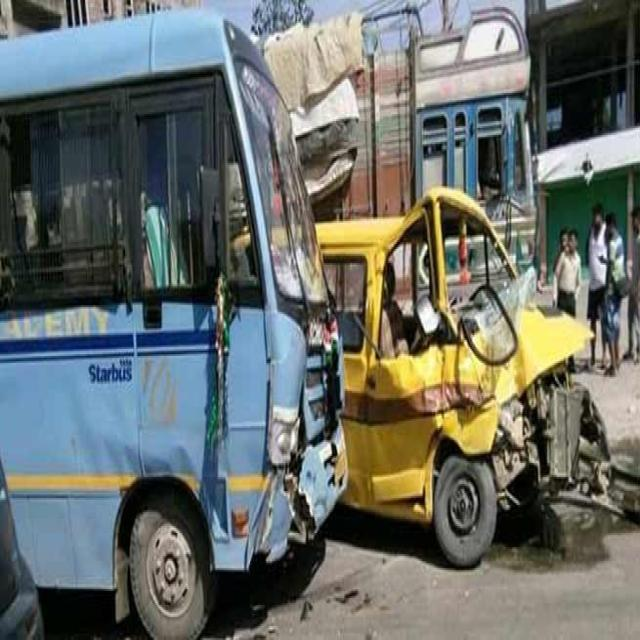accident: (0, 13, 348, 637), (320, 188, 610, 568)
